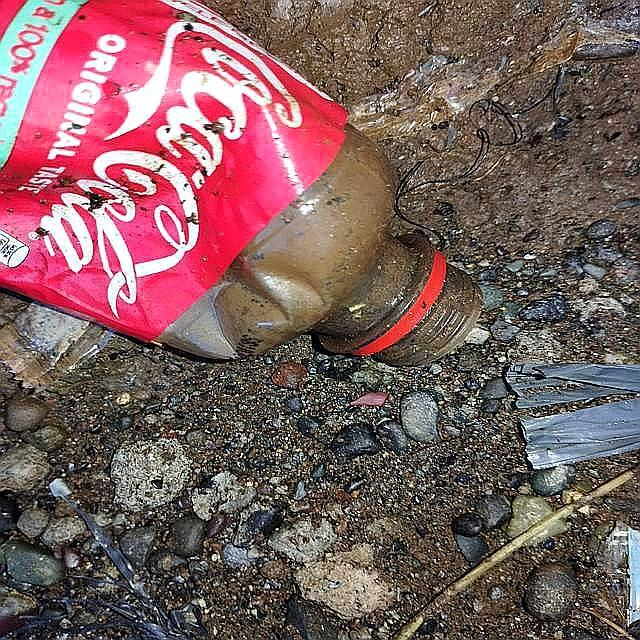Non-biodegradable: (1, 1, 483, 377)
